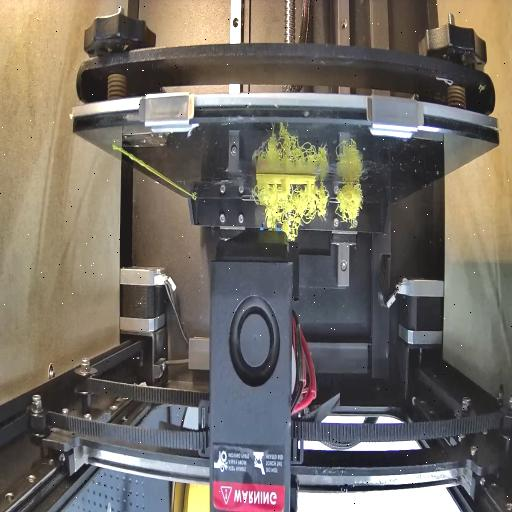spaghetti: (258, 186, 364, 242)
